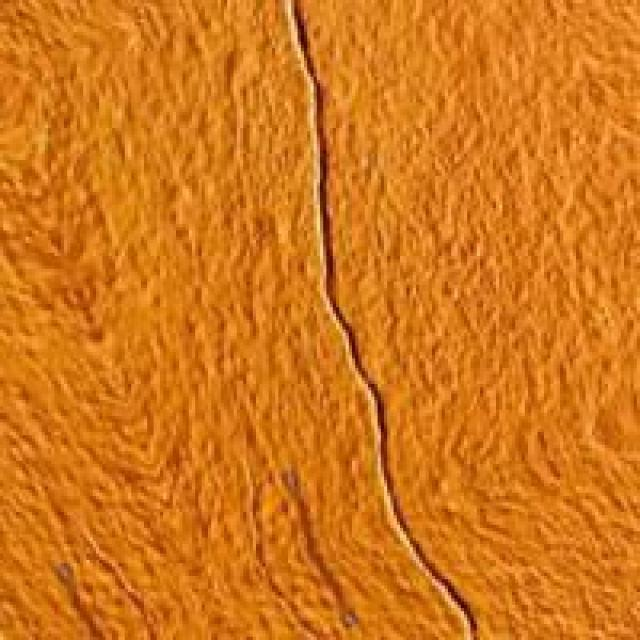Crack: (240, 0, 518, 637)
